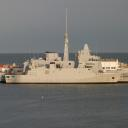Fragata: (5, 7, 125, 86)
